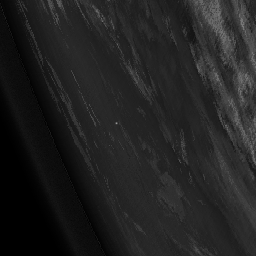Target: (113, 121, 119, 125)
